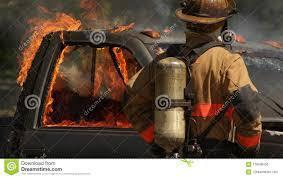fire: (2, 1, 148, 132)
